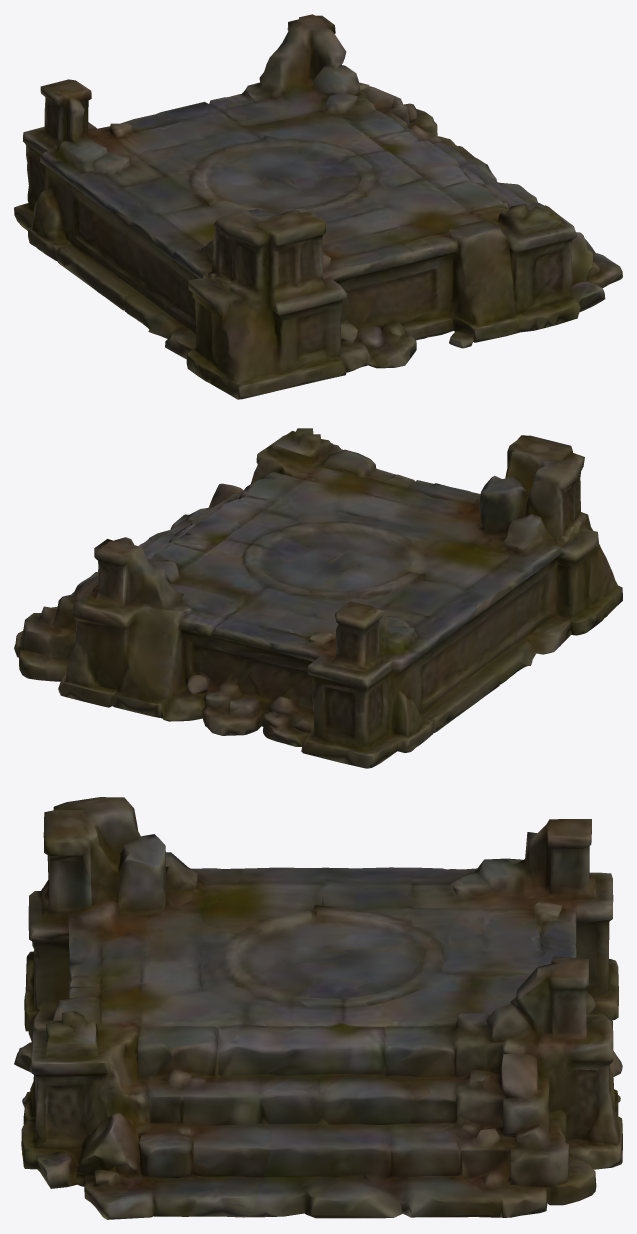
File: broken-stone-stair-dais.glb
3 renders of one model, top to bottom at view 1: azimuth 30°, elevation 25°; view 2: azimuth 150°, elevation 25°; view 3: azimuth 270°, elevation 25°, orthographic. The views are drawn at different scales.
Visible parts, largest first — view 1: tripo_node_2ab1f429-a9a0-43cc-a72e-2445fc23902f; view 2: tripo_node_2ab1f429-a9a0-43cc-a72e-2445fc23902f; view 3: tripo_node_2ab1f429-a9a0-43cc-a72e-2445fc23902f.
Part boxes in pixels (x1=…): tripo_node_2ab1f429-a9a0-43cc-a72e-2445fc23902f: x1=14, y1=14, x2=622, y2=399; tripo_node_2ab1f429-a9a0-43cc-a72e-2445fc23902f: x1=14, y1=428, x2=622, y2=768; tripo_node_2ab1f429-a9a0-43cc-a72e-2445fc23902f: x1=14, y1=797, x2=622, y2=1219.
Size of the model in its own units: 0.9838 by 0.346 by 1.
Materials: 1 (1 with a texture image).
